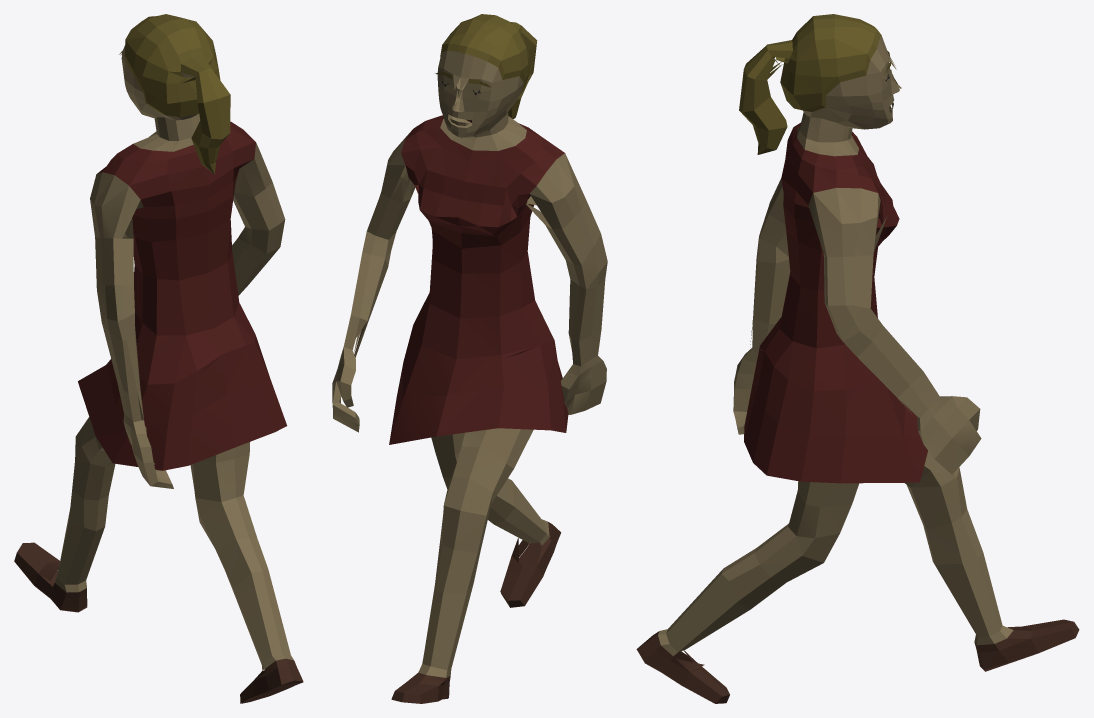
Rendered from person_0_w1.fbx.
The picture shows the model from 3 angles, left to right: view 1: azimuth 30°, elevation 25°; view 2: azimuth 150°, elevation 25°; view 3: azimuth 270°, elevation 25°; orthographic projection. The views are drawn at different scales.
Parts seen in each view (by area): view 1: Female; view 2: Female; view 3: Female.
Part boxes in pixels (box(x1,y1,x2,y2)): Female: box(14, 14, 303, 703); Female: box(332, 14, 607, 703); Female: box(636, 14, 1079, 703).
Size of the model in its own units: 0.3283 by 1 by 0.5985.
